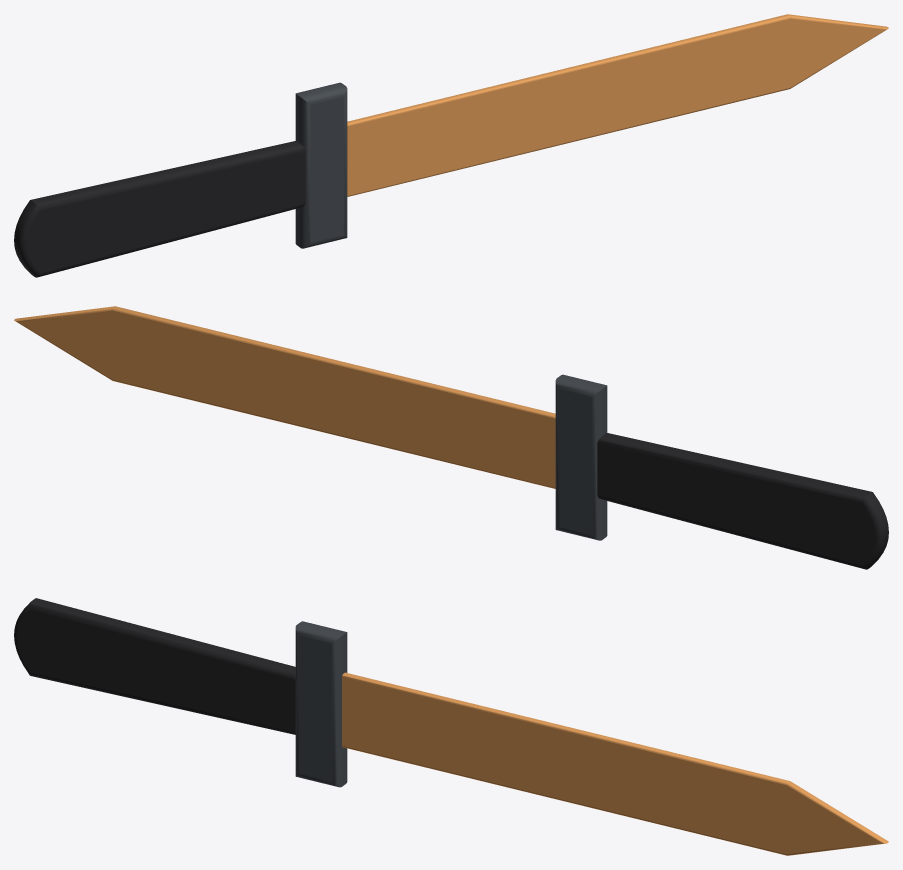
File: bayonet.glb
3 views of the same model, one above another, from view 1: azimuth 30°, elevation 25°; view 2: azimuth 150°, elevation 25°; view 3: azimuth 330°, elevation 25° (orthographic).
Parts seen in each view (by area): view 1: paint_0, poly_2, metal_1; view 2: paint_0, poly_2, metal_1; view 3: paint_0, poly_2, metal_1.
Boxes of the visible parts, x1,y1,x2,y2 form: paint_0: [347, 14, 888, 196]; poly_2: [14, 141, 305, 277]; metal_1: [295, 82, 347, 248]; paint_0: [14, 306, 555, 488]; poly_2: [597, 433, 888, 569]; metal_1: [555, 374, 607, 540]; paint_0: [342, 672, 888, 855]; poly_2: [14, 598, 295, 734]; metal_1: [295, 621, 347, 787].
Bounding box in the file's own units: 317 × 52.46 × 7.44.
